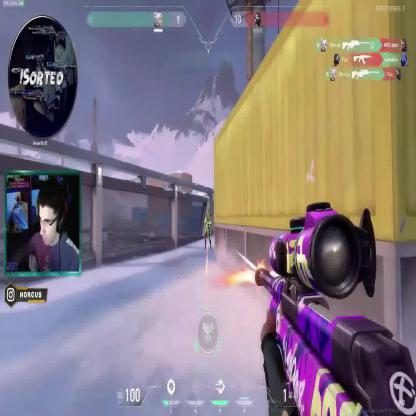enemy: (204, 213, 212, 250)
enemy_head: (206, 213, 210, 222)
